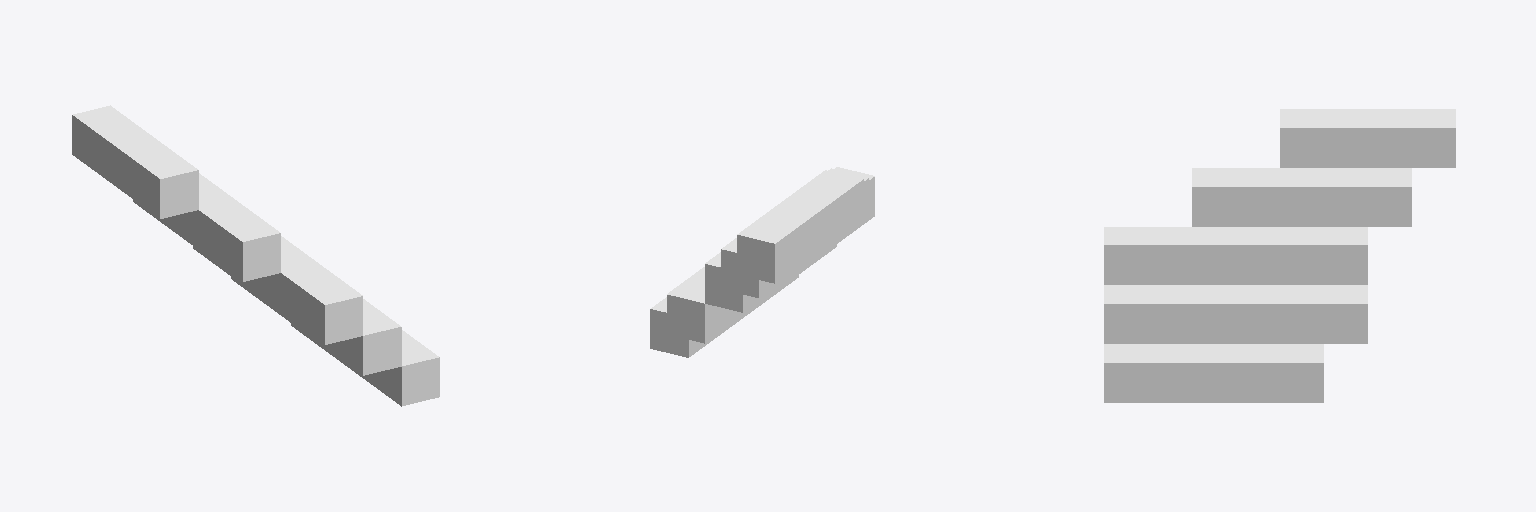
File: Extra-1-UVintruder_Fin_R.obj
The picture shows the model from 3 angles: view 1: azimuth 30°, elevation 25°; view 2: azimuth 150°, elevation 25°; view 3: azimuth 270°, elevation 25°; orthographic projection.
Parts seen in each view (by area): view 1: UVintruder_Fin_R; view 2: UVintruder_Fin_R; view 3: UVintruder_Fin_R.
Boxes of the visible parts, <box> form: UVintruder_Fin_R: <box>72,105,439,406</box>; UVintruder_Fin_R: <box>650,167,874,357</box>; UVintruder_Fin_R: <box>1104,109,1455,402</box>.
Size of the model in its own units: 0.5 by 0.5 by 0.8.